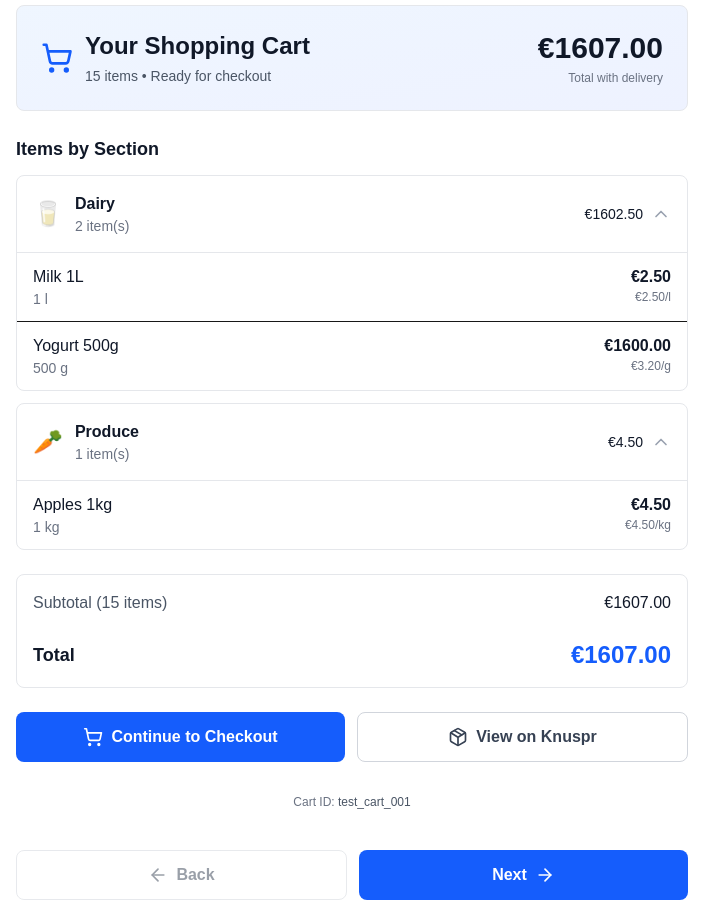
it: CheckoutFlow Component › Step 2: Delivery Selection › shows error when trying to proceed without slot selection
(page scrolled)
Note: Go to delivery step
Step 1. Click the button "Next" → {"x": 524, "y": 875}, box [359,850,688,899]
(page scrolled)
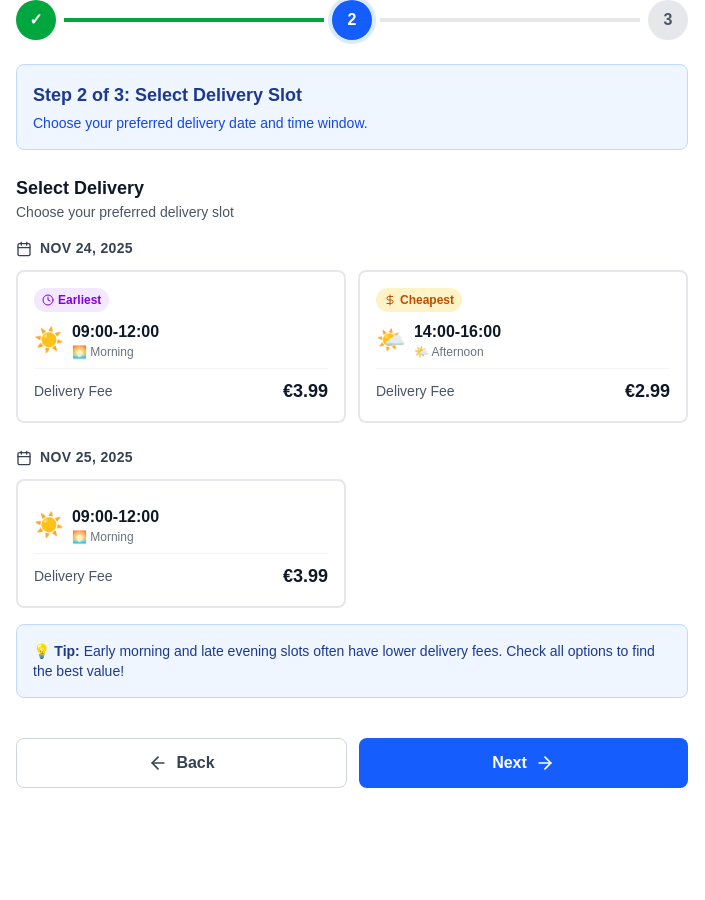
Result: the heading "Step 2 of 3: Select Delivery Slot" is shown at [33,85,302,105]
Note: Try to proceed without selecting slot
Step 2. Click the button "Next" → {"x": 524, "y": 763}, box [359,738,688,788]
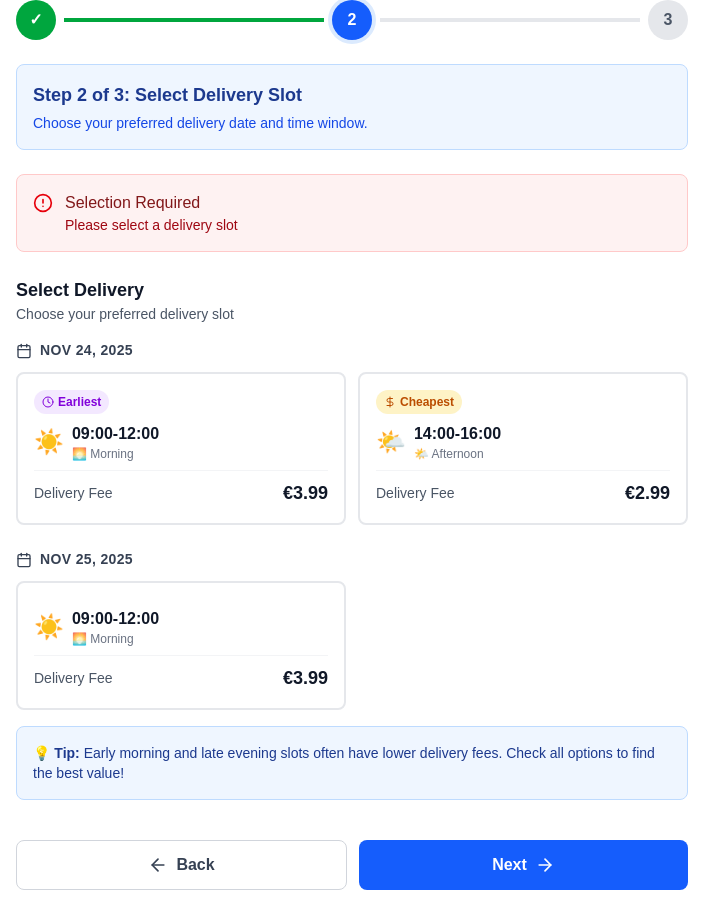
Result: the text "Please select a delivery slot" is shown at [65,215,238,235]
